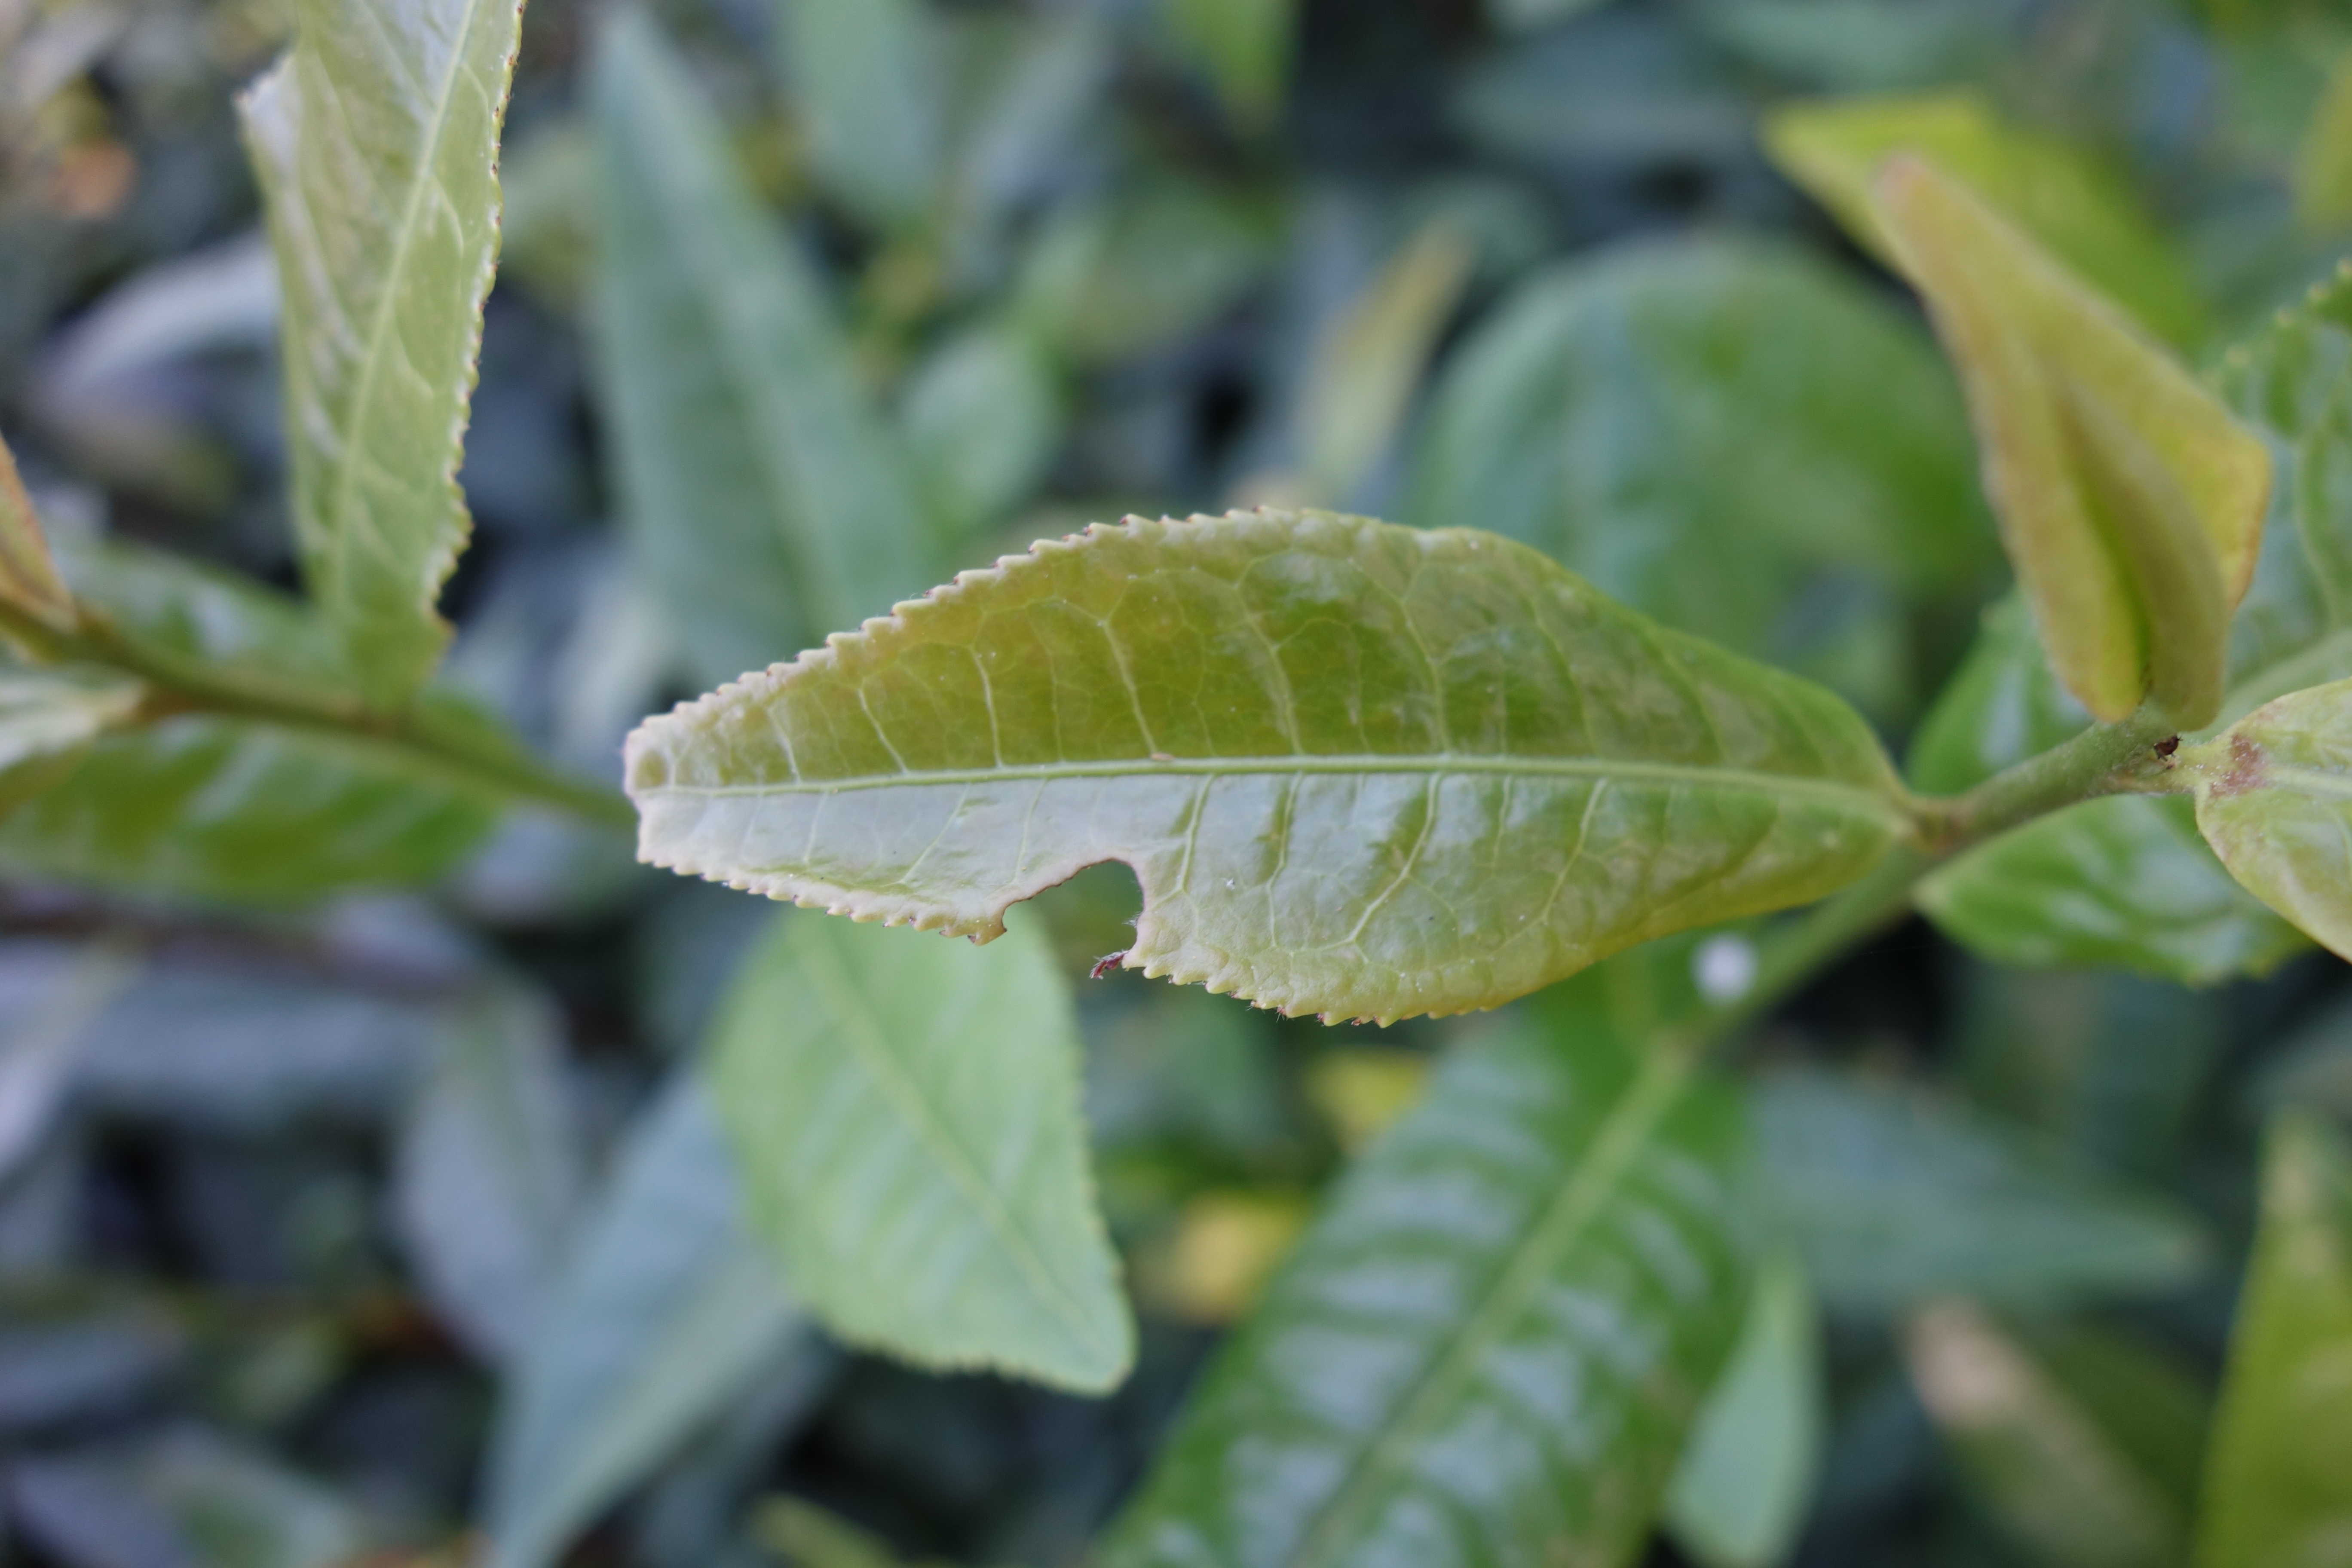chihuo_low: (614, 506, 1913, 1031)
healthy: (217, 5, 523, 700)
tanju_low: (1876, 156, 2268, 745)
